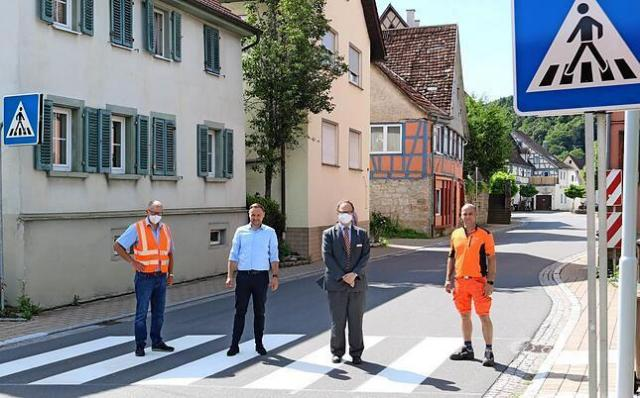crosswalk-sign: (512, 1, 640, 117), (2, 95, 45, 152)
